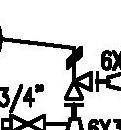psv: (63, 45, 94, 105)
